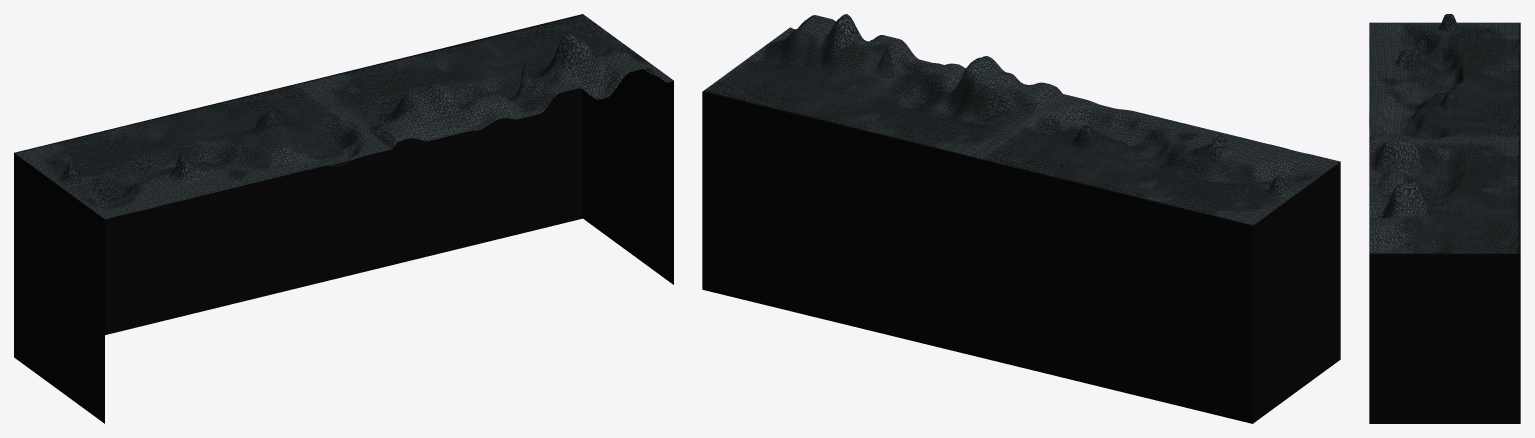
3 views of the same model, side by side, from view 1: azimuth 30°, elevation 25°; view 2: azimuth 150°, elevation 25°; view 3: azimuth 270°, elevation 25° (orthographic). The views are drawn at different scales.
Parts seen in each view (by area): view 1: ground_base2; view 2: ground_base2; view 3: ground_base2.
Part boxes in pixels (box(x1,y1,x2,y2)): ground_base2: box(14, 14, 673, 423); ground_base2: box(702, 14, 1340, 423); ground_base2: box(1369, 14, 1520, 423).
Bounding box in the file's own units: 5826 × 2474 × 1613.
